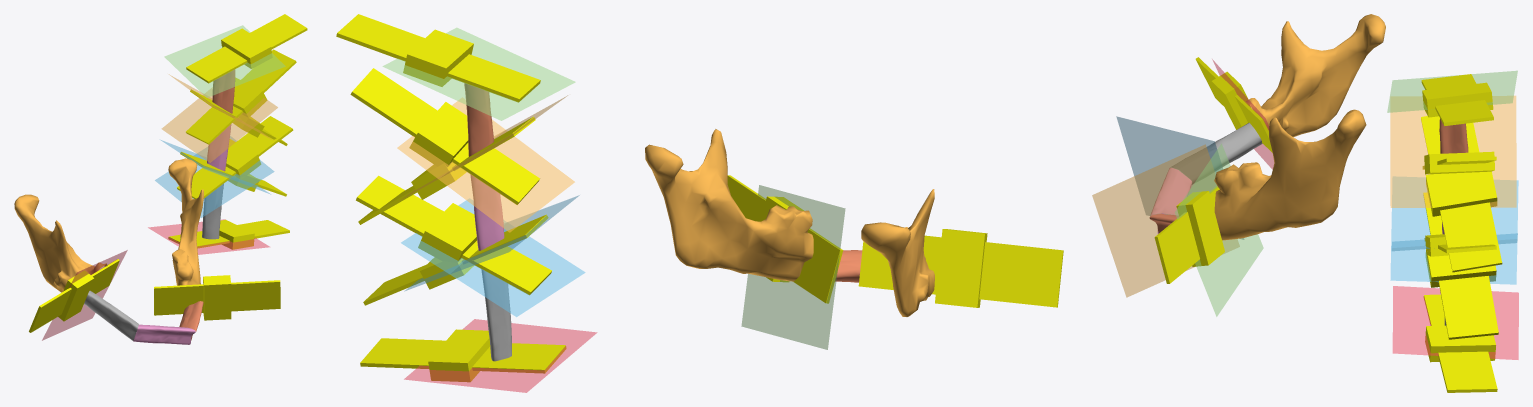
The model's file is BoneReconstructionPlanner.gltf.
3 views of the same model, side by side, from view 1: azimuth 30°, elevation 25°; view 2: azimuth 150°, elevation 25°; view 3: azimuth 270°, elevation 25° (orthographic). The views are drawn at different scales.
Visible parts, largest first — view 1: Resected mandible, sawBox_3, FibulaPlane1_B, FibulaPlane2_B, miterBox2_B, miterBox1_B, FibulaPlane0_B, miterBox0_B, sawBox_0, biggerSawBox3, biggerMiterBox2_B, mandibularPlane (+18 smaller); view 2: Resected mandible, mandibularPlane_1, sawBox_0, FibulaPlane1_B, miterBox1_B, FibulaPlane0_B, FibulaPlane2_B, miterBox0_B, miterBox2_B, FibulaPlane0_A, miterBox0_A, biggerSawBox0 (+15 smaller); view 3: Resected mandible, mandibularPlane_3, FibulaPlane2_A, FibulaPlane1_A, mandibularPlane_2, FibulaPlane0_A, miterBox2_A, mandibularPlane_1, miterBox1_A, miterBox0_A, biggerMiterBox2_A, FibulaPlane2_B (+17 smaller).
Part boxes in pixels (x1,y1,x2,y2): Resected mandible: (14, 158, 203, 292); sawBox_3: (154, 280, 280, 315); FibulaPlane1_B: (161, 87, 277, 162); FibulaPlane2_B: (164, 25, 285, 97); miterBox2_B: (186, 14, 307, 83); miterBox1_B: (186, 49, 296, 144); FibulaPlane0_B: (155, 136, 274, 217); miterBox0_B: (177, 116, 293, 199); sawBox_0: (29, 259, 119, 332); biggerSawBox3: (203, 275, 231, 320); biggerMiterBox2_B: (221, 28, 272, 68); mandibularPlane: (42, 250, 127, 340); Resected mandible: (645, 129, 934, 316); mandibularPlane_1: (741, 185, 845, 349); sawBox_0: (858, 235, 1063, 307); FibulaPlane1_B: (397, 97, 574, 232); miterBox1_B: (350, 68, 539, 204); FibulaPlane0_B: (401, 198, 585, 316); FibulaPlane2_B: (382, 27, 575, 120); miterBox0_B: (356, 175, 551, 295); miterBox2_B: (336, 14, 540, 102); FibulaPlane0_A: (404, 319, 597, 392); miterBox0_A: (360, 338, 566, 373); biggerSawBox0: (935, 229, 987, 307); Resected mandible: (1214, 14, 1385, 240); mandibularPlane_3: (1092, 144, 1239, 297); FibulaPlane2_A: (1390, 95, 1516, 207); FibulaPlane1_A: (1390, 176, 1518, 284); mandibularPlane_2: (1116, 116, 1243, 239); FibulaPlane0_A: (1392, 286, 1518, 359); miterBox2_A: (1421, 116, 1502, 272); mandibularPlane_1: (1174, 143, 1263, 316); miterBox1_A: (1423, 192, 1498, 339); miterBox0_A: (1423, 294, 1497, 392); biggerMiterBox2_A: (1426, 171, 1497, 216); FibulaPlane2_B: (1387, 70, 1517, 112).
Bounding box in the file's own units: 230 × 141 × 169.
